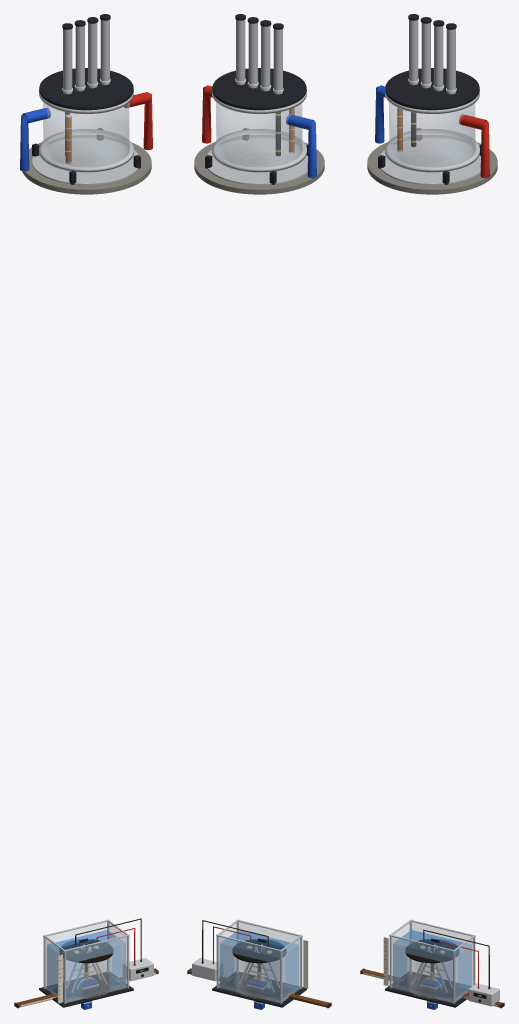
File: board-parts.glb
3 renders of one model, left to right at view 1: azimuth 30°, elevation 25°; view 2: azimuth 150°, elevation 25°; view 3: azimuth 330°, elevation 25°, orthographic.
Parts seen in each view (by area): view 1: ReactorBase, ReactorVessel, TankGlass, TankWater, TankFrame, CellStatic, CellBeaker, LeverFrame; view 2: ReactorBase, TankGlass, ReactorVessel, TankWater, TankFrame, CellStatic, CellBeaker, LeverFrame; view 3: ReactorBase, TankGlass, ReactorVessel, TankWater, TankFrame, CellStatic, CellBeaker, LeverFrame.
Boxes of the visible parts, left/top/right/bottom form: ReactorBase: left=20, top=14, right=152, bottom=194; ReactorVessel: left=43, top=102, right=129, bottom=167; TankGlass: left=45, top=921, right=127, bottom=1002; TankWater: left=47, top=930, right=125, bottom=1000; TankFrame: left=39, top=919, right=133, bottom=1007; CellStatic: left=59, top=918, right=153, bottom=981; CellBeaker: left=81, top=958, right=109, bottom=998; LeverFrame: left=52, top=938, right=120, bottom=998; ReactorBase: left=194, top=14, right=324, bottom=194; TankGlass: left=218, top=921, right=300, bottom=1002; ReactorVessel: left=216, top=102, right=302, bottom=167; TankWater: left=220, top=930, right=298, bottom=1000; TankFrame: left=212, top=919, right=308, bottom=1007; CellStatic: left=192, top=920, right=286, bottom=981; CellBeaker: left=236, top=958, right=264, bottom=998; LeverFrame: left=225, top=938, right=293, bottom=998; ReactorBase: left=367, top=14, right=497, bottom=194; TankGlass: left=391, top=921, right=473, bottom=1002; ReactorVessel: left=389, top=102, right=475, bottom=167; TankWater: left=393, top=930, right=471, bottom=1000; TankFrame: left=383, top=919, right=475, bottom=1007; CellStatic: left=405, top=929, right=499, bottom=1006; CellBeaker: left=409, top=958, right=437, bottom=998; LeverFrame: left=398, top=938, right=466, bottom=998.
Bounding box in the file's own units: 9 × 60.11 × 7.2.
26 materials, 1 textured.
